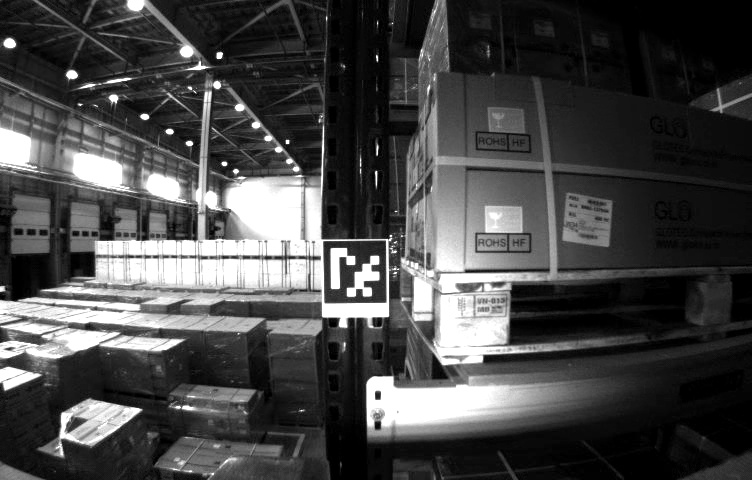True Barcode: (562, 193, 611, 244)
